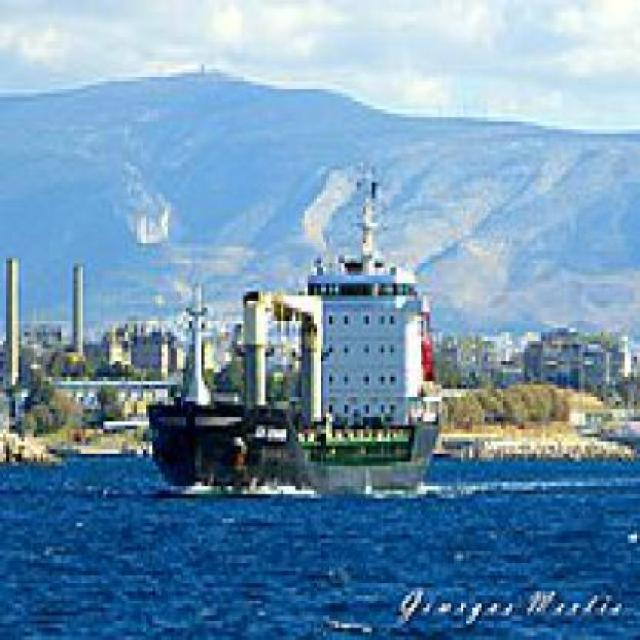container: (141, 146, 452, 508)
